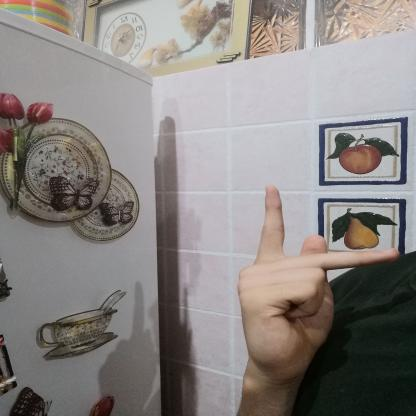DHAA: (221, 179, 410, 393)
